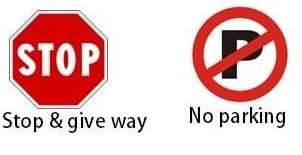Traffic signal: (9, 8, 109, 109), (191, 7, 289, 103)
